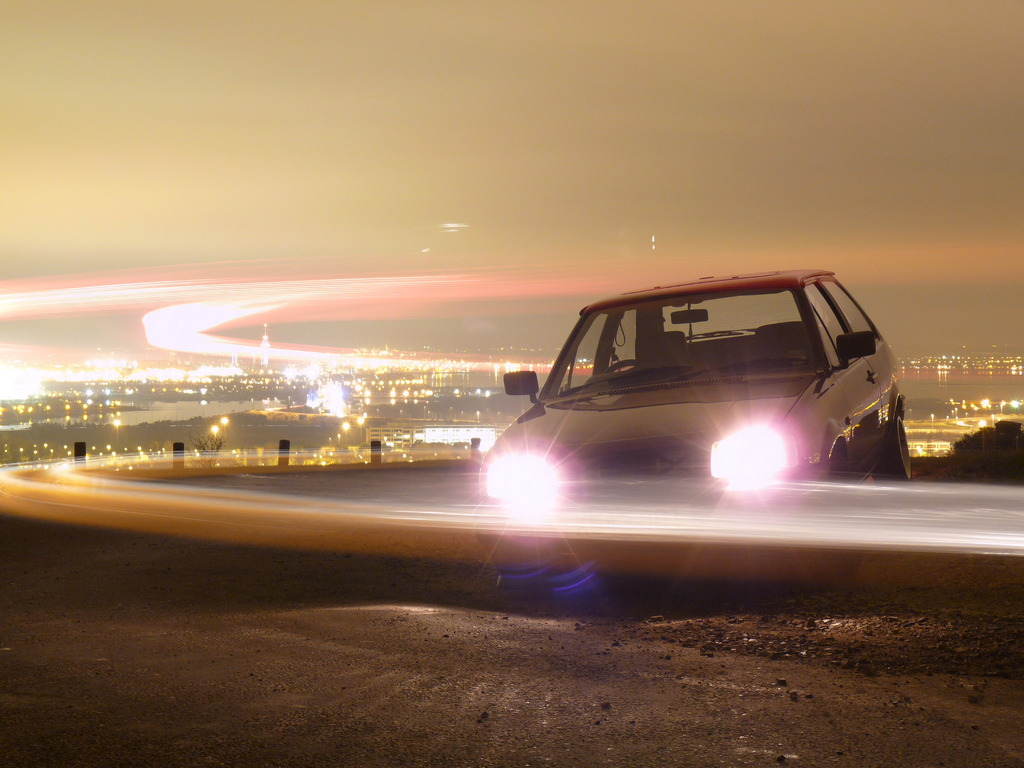mobil: (494, 265, 915, 541)
